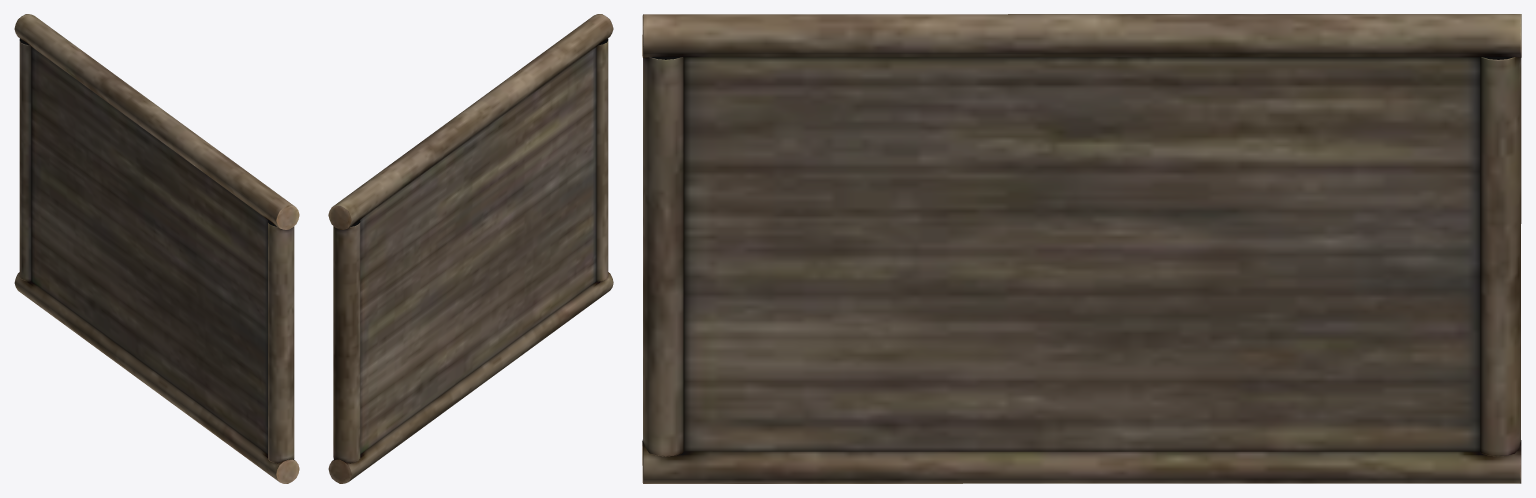
The model's file is SM_WallDiagonal_Wood_b83fd0.glb.
3 views of the same model, side by side, from view 1: azimuth 30°, elevation 25°; view 2: azimuth 150°, elevation 25°; view 3: azimuth 270°, elevation 25° (orthographic). The views are drawn at different scales.
Size of the model in its own units: 0.2916 by 3.34 by 5.69.
1 material, 1 textured.
